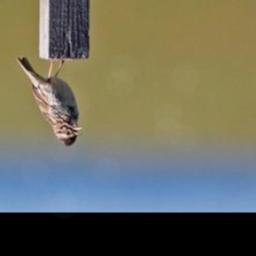Sparrow: (14, 50, 84, 150)
